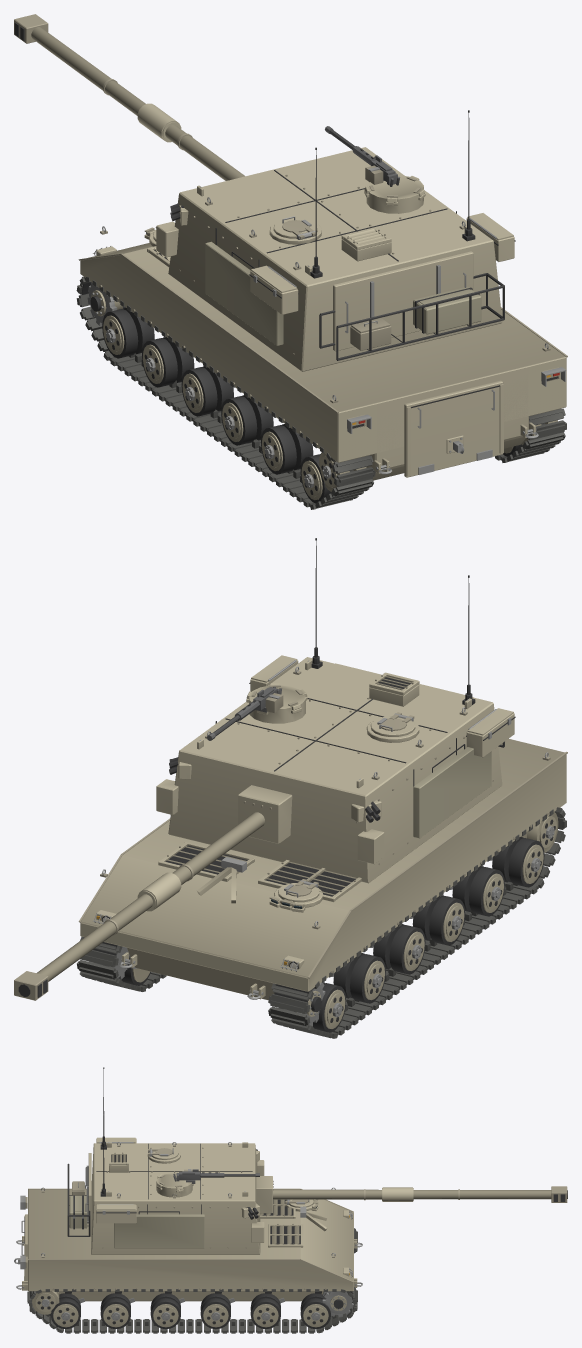
The model's file is usa_spg_a7.glb.
3 renders of one model, top to bottom at view 1: azimuth 30°, elevation 25°; view 2: azimuth 150°, elevation 25°; view 3: azimuth 270°, elevation 25°, orthographic. The views are drawn at different scales.
Visible parts, largest first — view 1: body, turret, barrel; view 2: body, turret, barrel; view 3: body, turret, barrel.
Part boxes in pixels (<box>): body: <box>76,226,567,509</box>; turret: <box>156,110,515,371</box>; barrel: <box>14,14,244,180</box>; body: <box>77,738,567,1038</box>; turret: <box>156,538,515,883</box>; barrel: <box>14,785,292,1000</box>; body: <box>14,1187,362,1333</box>; turret: <box>67,1067,264,1254</box>; barrel: <box>256,1176,567,1213</box>.
Bounding box in the file's own units: 3.4 × 4.52 × 10.97.
